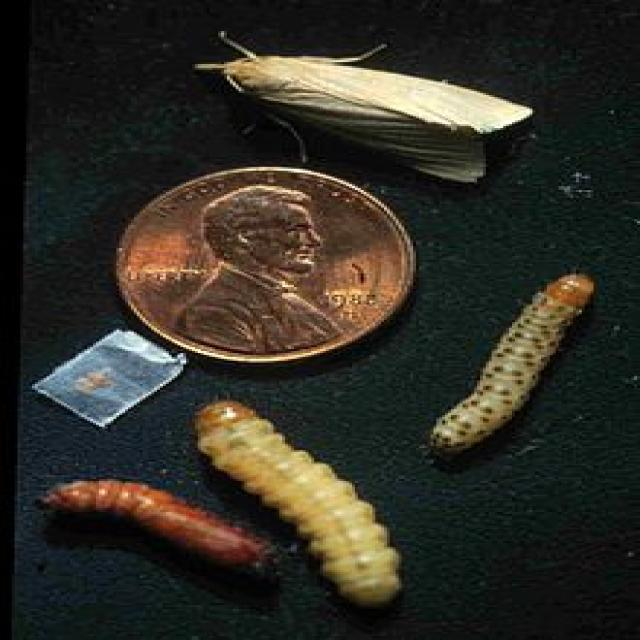cornborer-Adult-: (193, 30, 536, 180)
cornborer-Larva-: (416, 268, 613, 459)
